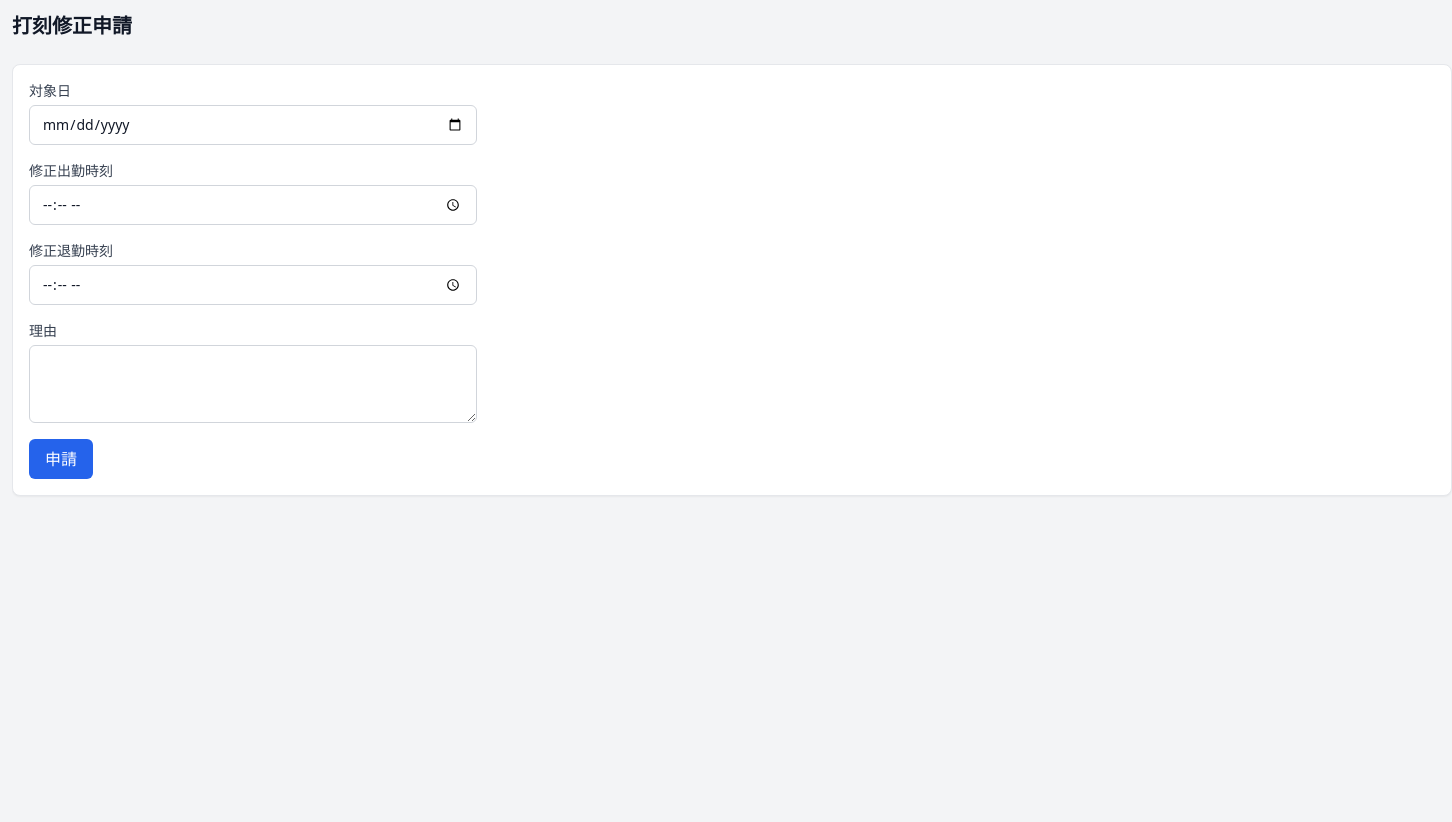
CorrectionsNewPage › 申請成功後に成功メッセージが表示される
In the date field labelled "対象日": x=253, y=125 [29,105,477,145], type "2026-07-10"
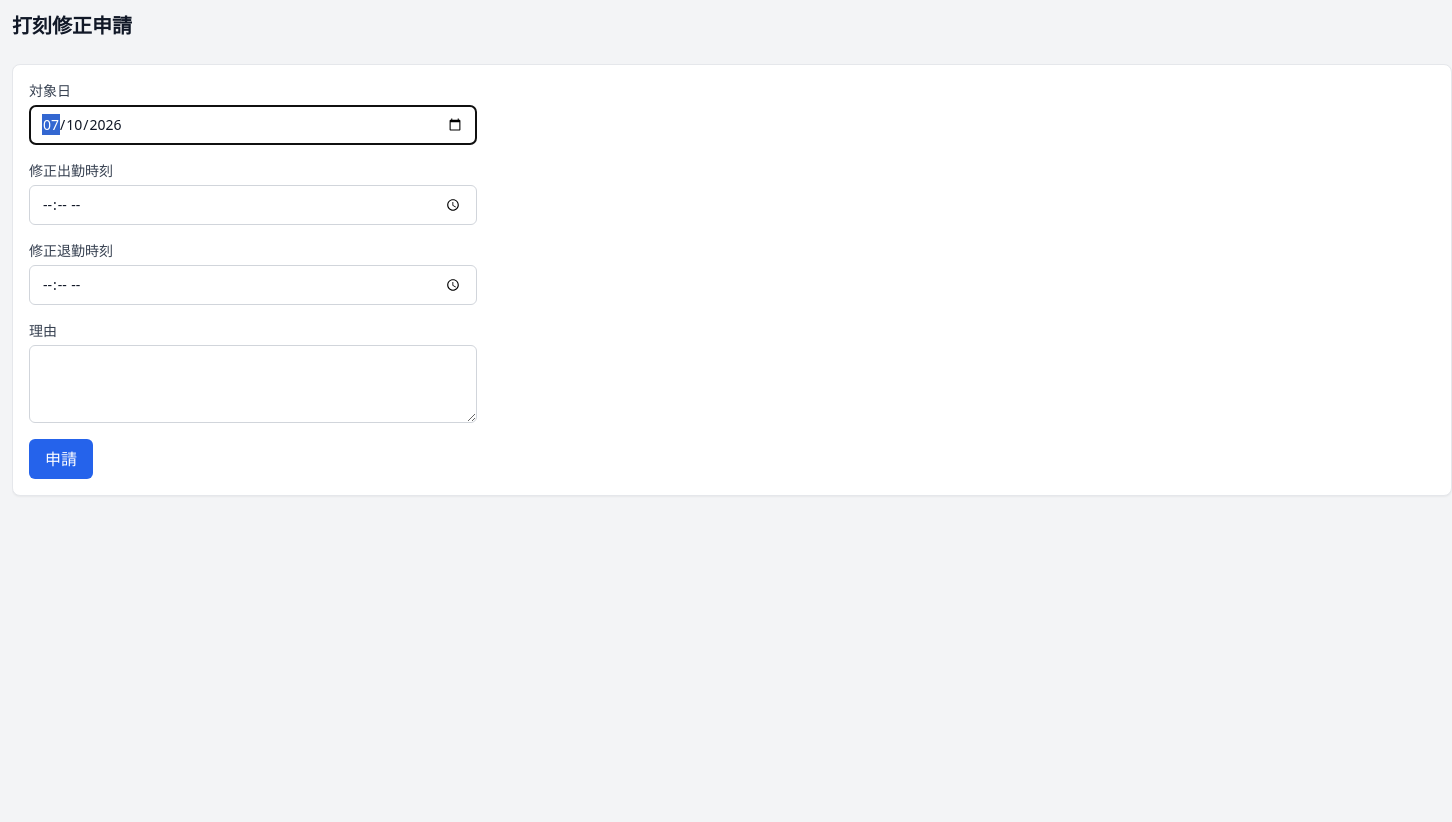
In the text box labelled "理由": x=253, y=384 [29,345,477,423], type "打刻忘れ"
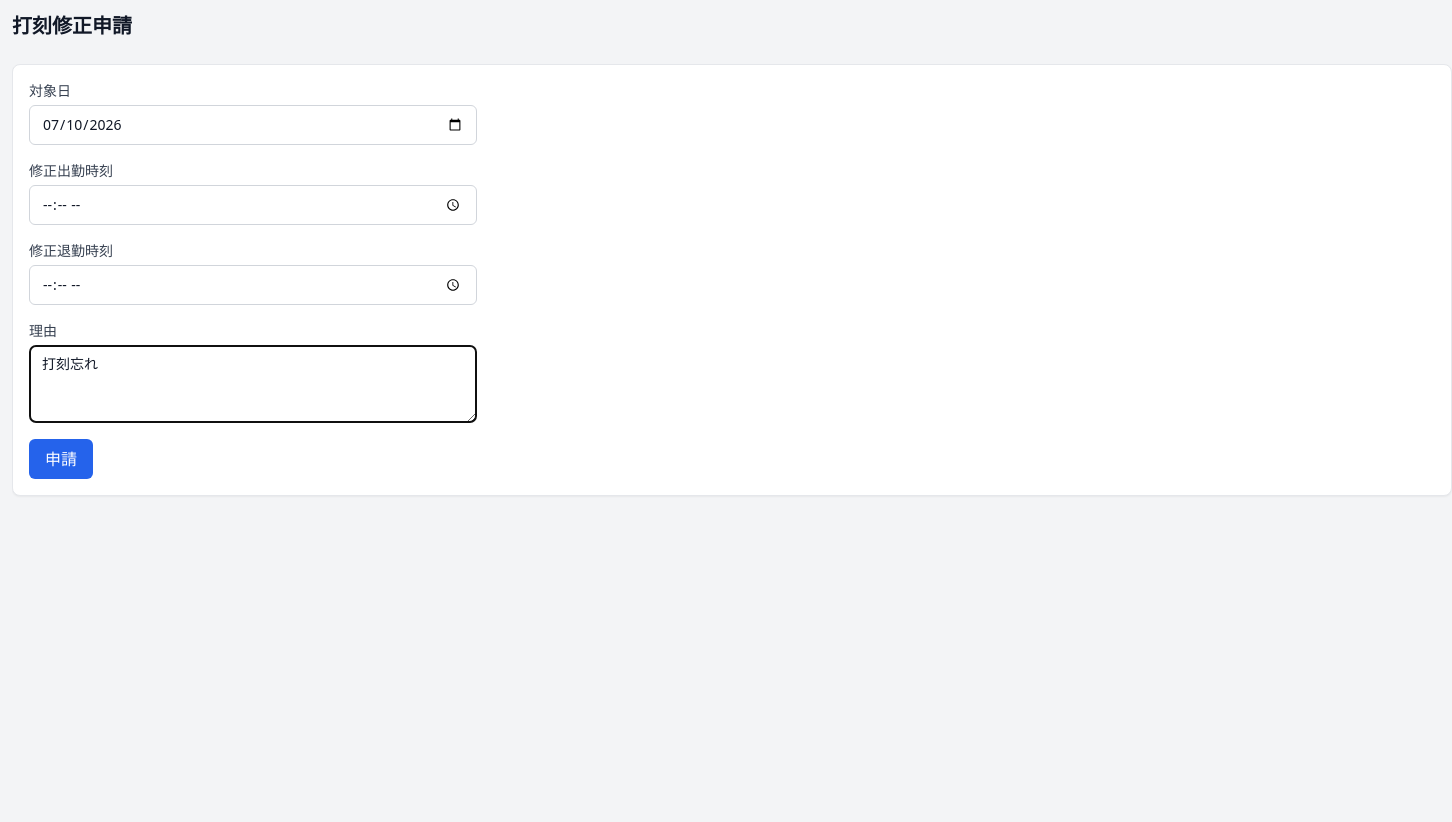
Click the button "申請": x=61, y=459 [29,439,93,479]
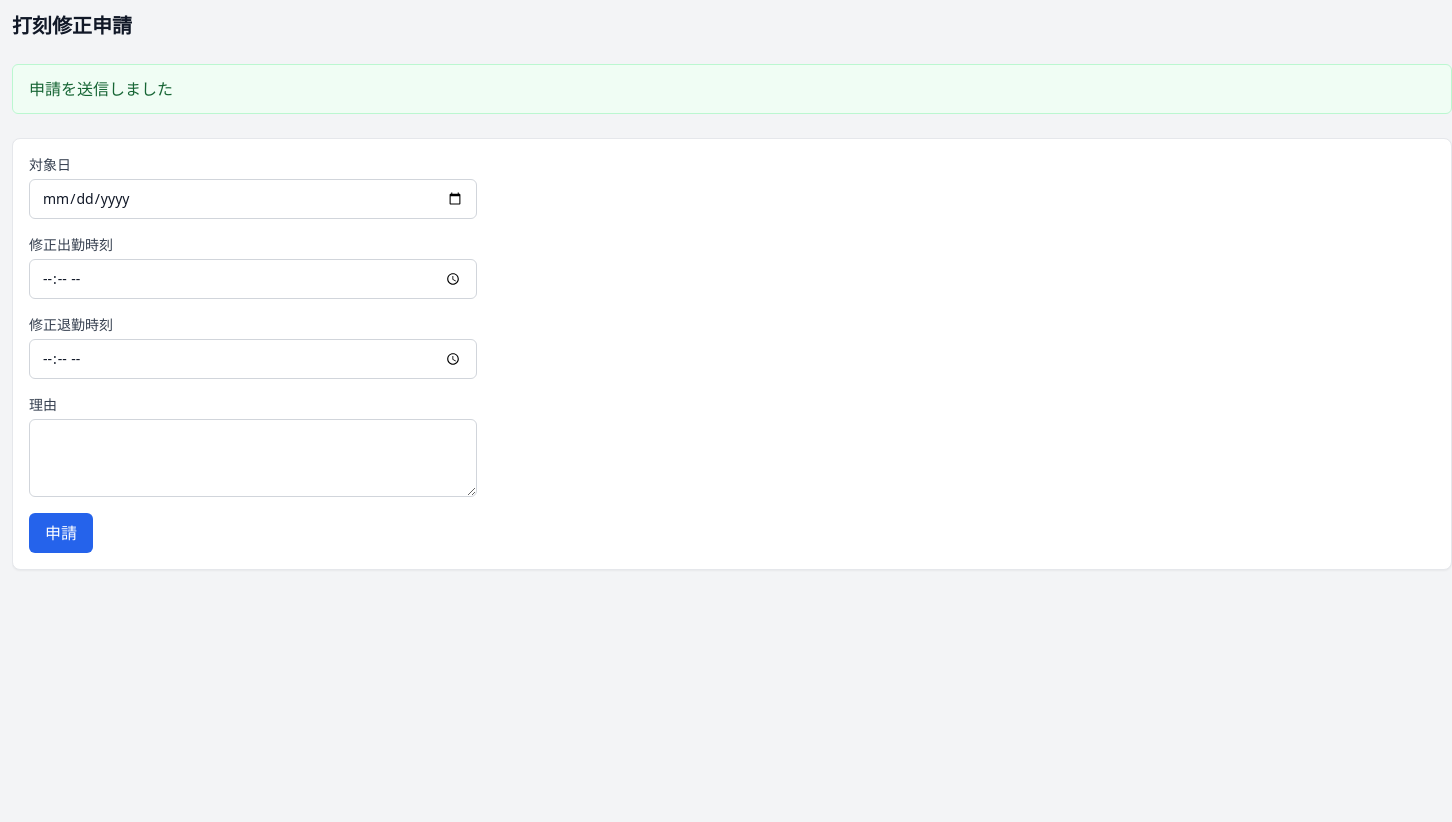
Now the text "申請を送信しました" is shown, box [12,64,1451,114]
